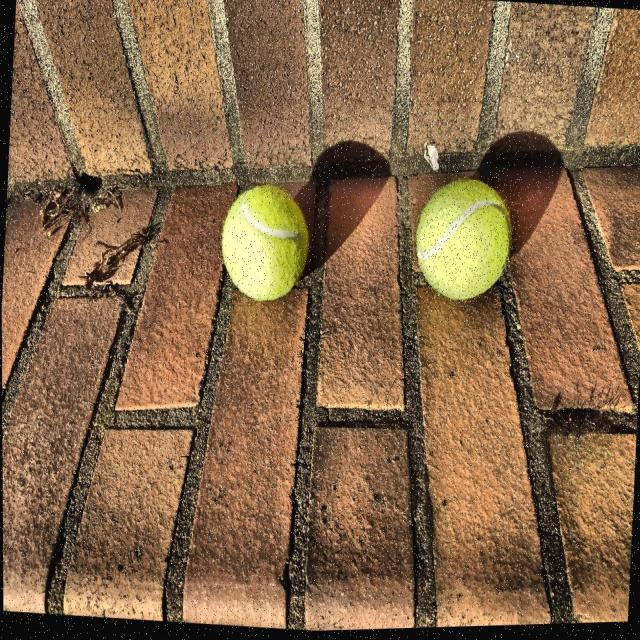tennis-ball: (410, 174, 522, 324), (214, 180, 322, 320)
